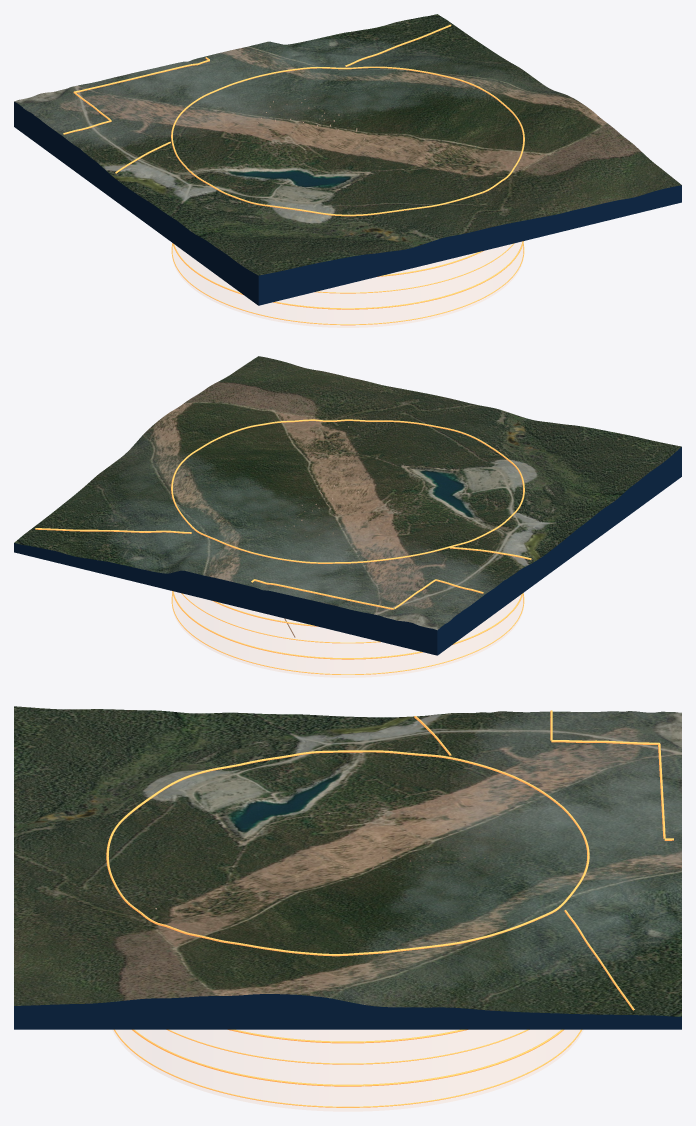
3 views of the same model, one above another, from view 1: azimuth 30°, elevation 25°; view 2: azimuth 150°, elevation 25°; view 3: azimuth 270°, elevation 25° (orthographic). The views are drawn at different scales.
Parts seen in each view (by area): view 1: ground_land, glass_lid, ground_edge, wall_rim, claims_line, wall_50m, wall_100m; view 2: ground_land, glass_lid, ground_edge, wall_rim, claims_line, wall_50m, wall_100m; view 3: ground_land, glass_lid, ground_edge, wall_rim, wall_100m, wall_50m, claims_line.
Part boxes in pixels (x1,y1,x2,y2): ground_land: (14, 14, 681, 275); glass_lid: (173, 68, 522, 214); ground_edge: (14, 101, 681, 305); wall_rim: (171, 66, 524, 216); claims_line: (63, 24, 451, 173); wall_50m: (171, 243, 524, 325); wall_100m: (172, 241, 523, 309); ground_land: (14, 356, 681, 630); glass_lid: (173, 421, 522, 562); ground_edge: (14, 447, 681, 655); wall_rim: (171, 419, 524, 563); claims_line: (35, 528, 531, 609); wall_50m: (171, 593, 524, 674); wall_100m: (172, 591, 523, 659); ground_land: (14, 706, 681, 1016); glass_lid: (109, 752, 586, 953); ground_edge: (14, 994, 681, 1029); wall_rim: (106, 750, 589, 956); wall_100m: (132, 1029, 563, 1086); wall_50m: (114, 1029, 581, 1107); claims_line: (414, 710, 673, 1010).
Bounding box in the file's own units: 0.6 × 0.1632 × 0.6.
28 materials, 2 textured.
